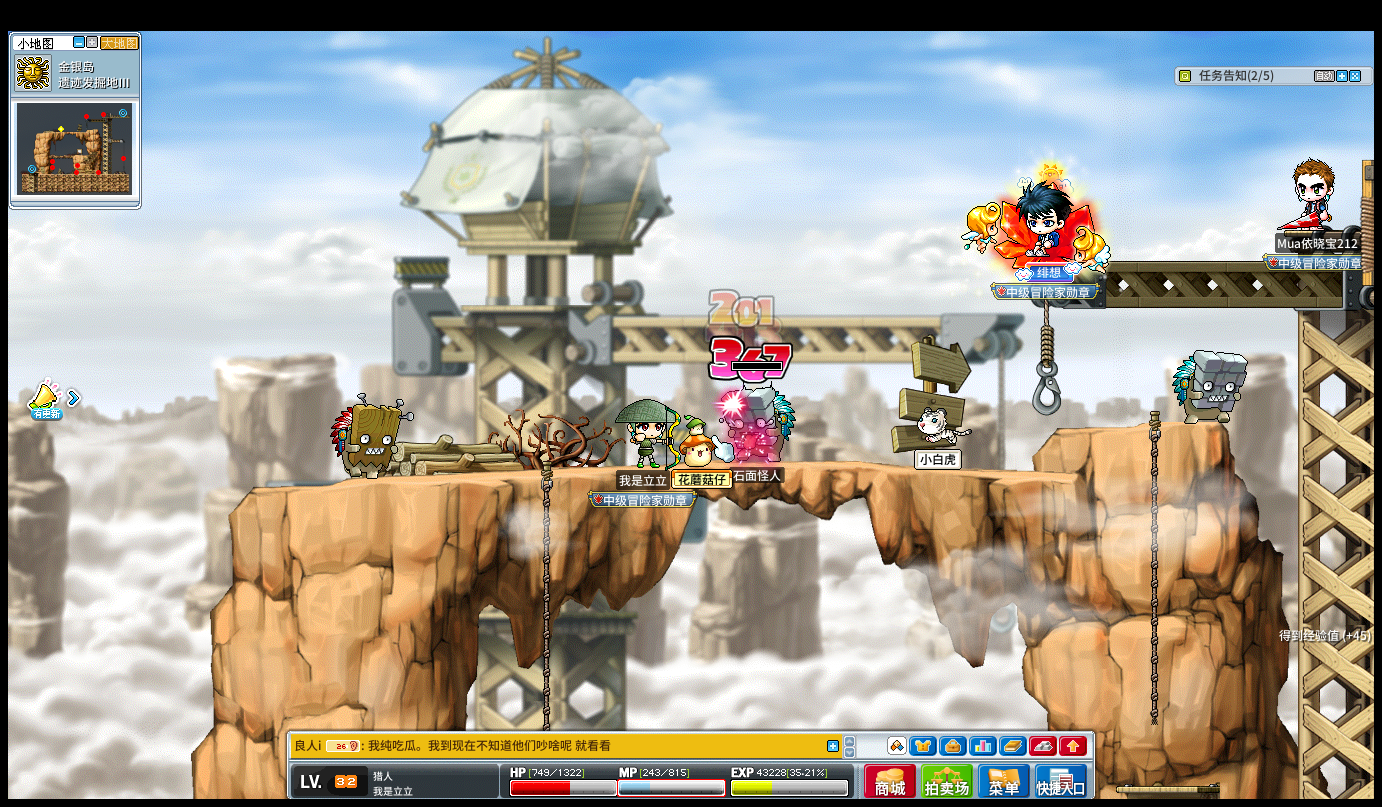floor: (229, 455, 1157, 482), (561, 458, 1078, 473), (1054, 419, 1224, 435)
monster: (328, 396, 410, 479), (1172, 348, 1247, 425), (730, 385, 795, 462)
rope: (1146, 408, 1161, 728), (539, 458, 552, 748), (540, 459, 552, 674)
